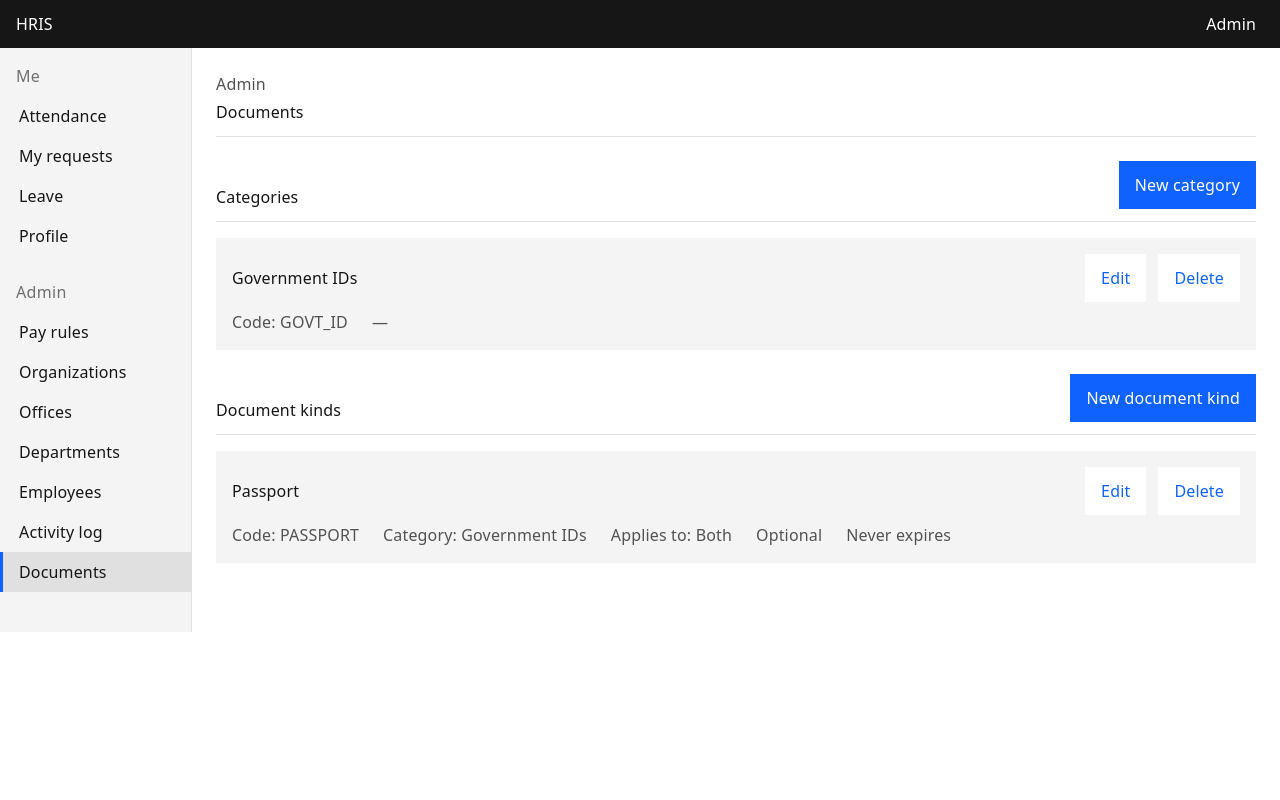
Scenario: /admin/documents — delete surfaces the 409 › a non-409 delete failure falls back to the generic message, not a fabricated count
The width and height of the screenshot is (1280, 800).
Expected: the text "Government IDs" is shown, [232, 266, 358, 290]
Click the 1st button "Delete": (1199, 278) [1158, 254, 1240, 302]
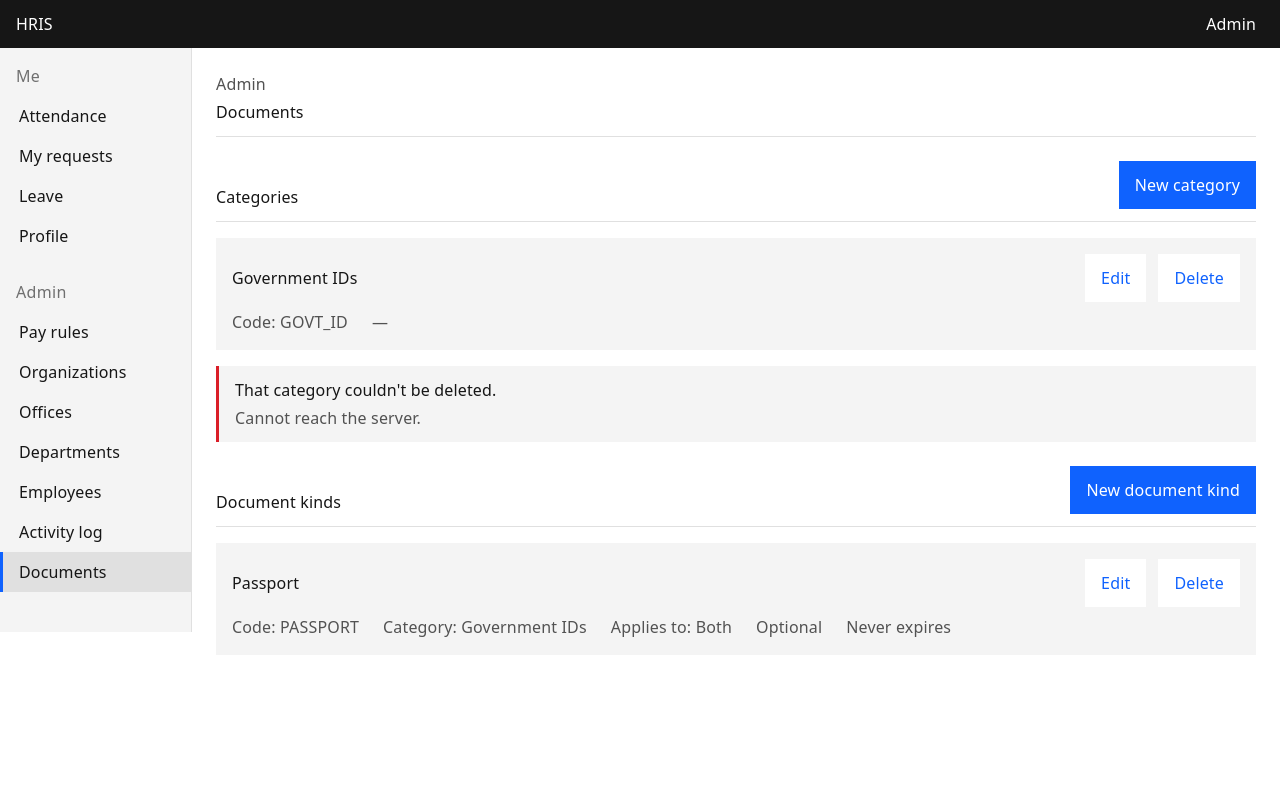
Expected: the text "Cannot reach the server." is shown, [235, 407, 421, 429]
